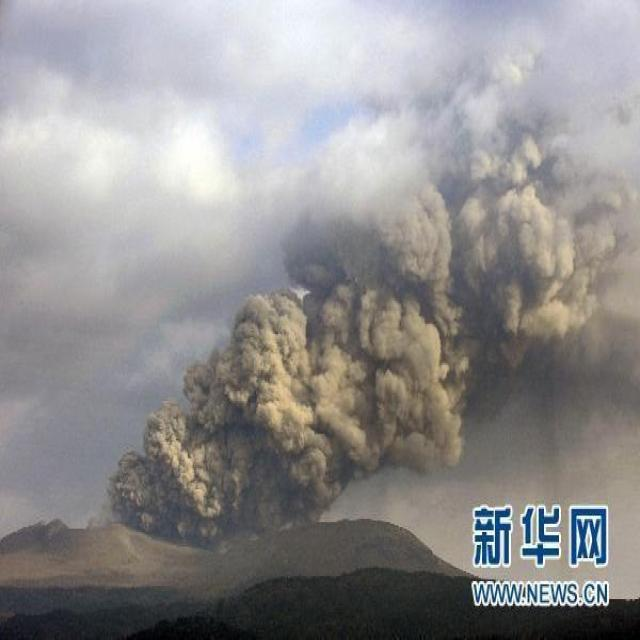Smoke: (84, 35, 640, 560)
